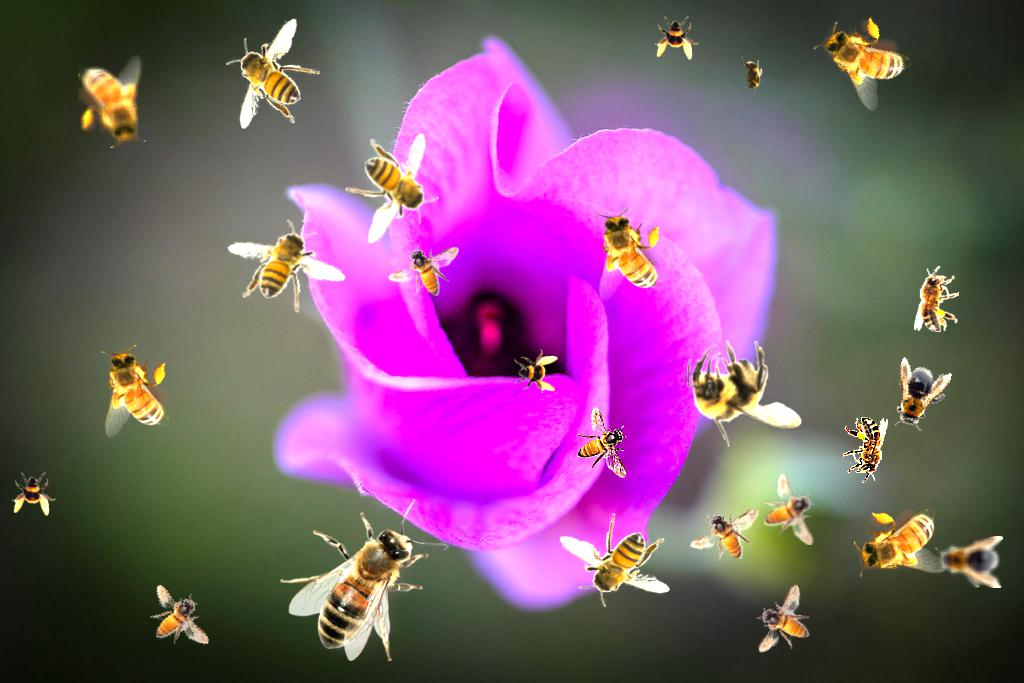Bee: (280, 499, 447, 661), (224, 210, 351, 324), (809, 0, 921, 117), (687, 340, 802, 447), (559, 513, 670, 607), (345, 133, 439, 244), (226, 18, 320, 129), (739, 582, 827, 667), (101, 345, 169, 438), (854, 509, 947, 577), (78, 55, 146, 148), (595, 208, 663, 301), (141, 575, 211, 658), (883, 356, 953, 438), (687, 507, 763, 564), (388, 246, 459, 296), (577, 407, 627, 478), (764, 474, 814, 545), (935, 536, 1003, 588), (843, 417, 888, 483), (914, 266, 959, 332), (12, 472, 56, 516), (514, 349, 558, 393), (655, 16, 699, 60), (741, 56, 763, 96)
